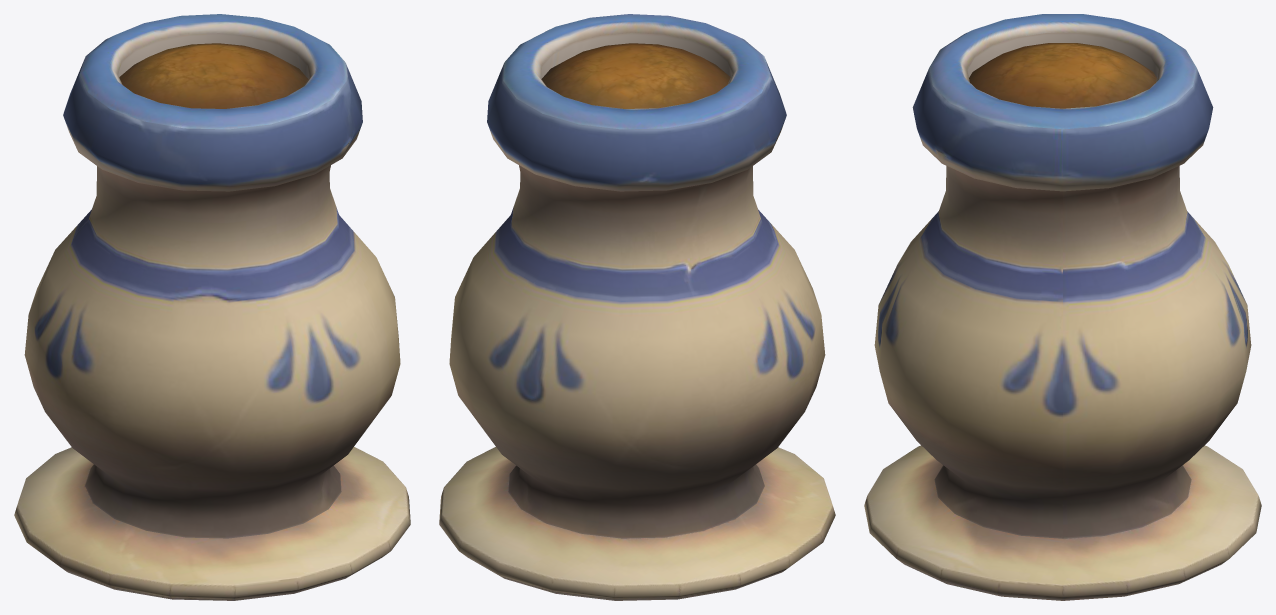
File: DE_Flowerpot_03.fbx
The picture shows the model from 3 angles, left to right: view 1: azimuth 30°, elevation 25°; view 2: azimuth 150°, elevation 25°; view 3: azimuth 270°, elevation 25°; orthographic projection.
Parts seen in each view (by area): view 1: DE_Flowerpot_03; view 2: DE_Flowerpot_03; view 3: DE_Flowerpot_03.
Boxes of the visible parts, x1,y1,x2,y2 form: DE_Flowerpot_03: (14,14,410,600); DE_Flowerpot_03: (439,14,835,600); DE_Flowerpot_03: (864,14,1261,600).
Size of the model in its own units: 2.29 by 2.94 by 2.3.
